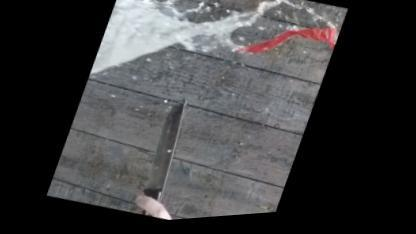knife: (130, 85, 233, 224)
